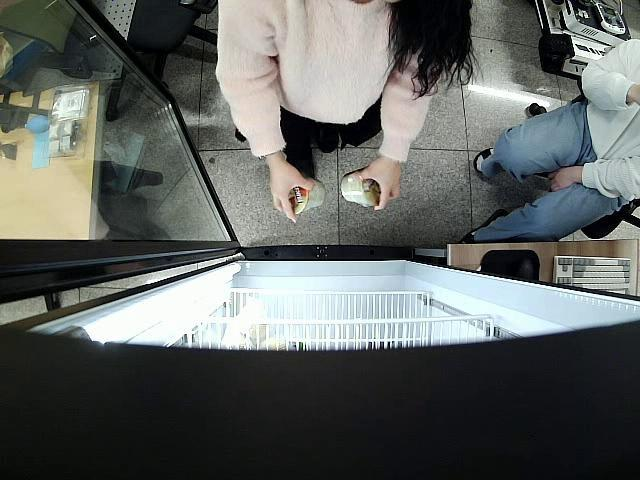04_chapagetti_S: (342, 168, 382, 208), (286, 178, 326, 216)
